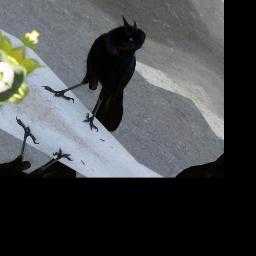Crow: (39, 2, 179, 141)
